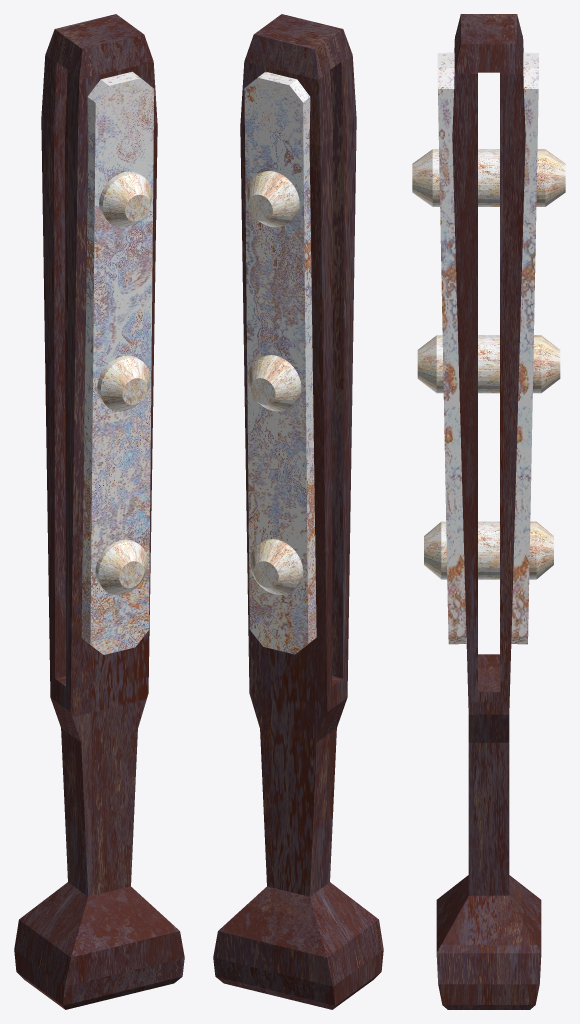
Rendered from mac_cuerpo.obj.
The picture shows the model from 3 angles, left to right: view 1: azimuth 30°, elevation 25°; view 2: azimuth 150°, elevation 25°; view 3: azimuth 270°, elevation 25°; orthographic projection.
Visible parts, largest first — view 1: mac_base_gl, mac_sides_F_gl, mac_screw3_gl, mac_screw2_gl, mac_screw_gl; view 2: mac_base_gl, mac_sides_r_gl, mac_screw3_gl, mac_screw2_gl, mac_screw_gl; view 3: mac_base_gl, mac_sides_F_gl, mac_sides_r_gl, mac_screw3_gl, mac_screw2_gl, mac_screw_gl.
Boxes of the visible parts, bbox=[...] form: mac_base_gl: bbox=[14, 14, 184, 1009]; mac_sides_F_gl: bbox=[81, 71, 154, 654]; mac_screw3_gl: bbox=[99, 171, 152, 227]; mac_screw2_gl: bbox=[97, 355, 150, 411]; mac_screw_gl: bbox=[95, 539, 148, 594]; mac_base_gl: bbox=[213, 14, 383, 1009]; mac_sides_r_gl: bbox=[244, 71, 316, 654]; mac_screw3_gl: bbox=[245, 171, 299, 227]; mac_screw2_gl: bbox=[247, 355, 301, 411]; mac_screw_gl: bbox=[249, 539, 303, 594]; mac_base_gl: bbox=[436, 14, 541, 1009]; mac_sides_F_gl: bbox=[437, 52, 466, 644]; mac_sides_r_gl: bbox=[511, 52, 538, 644]; mac_screw3_gl: bbox=[412, 149, 565, 206]; mac_screw2_gl: bbox=[417, 335, 560, 393]; mac_screw_gl: bbox=[424, 521, 553, 579].
Bounding box in the file's own units: 1.73 × 13.07 × 1.9.
3 materials, 3 textured.
